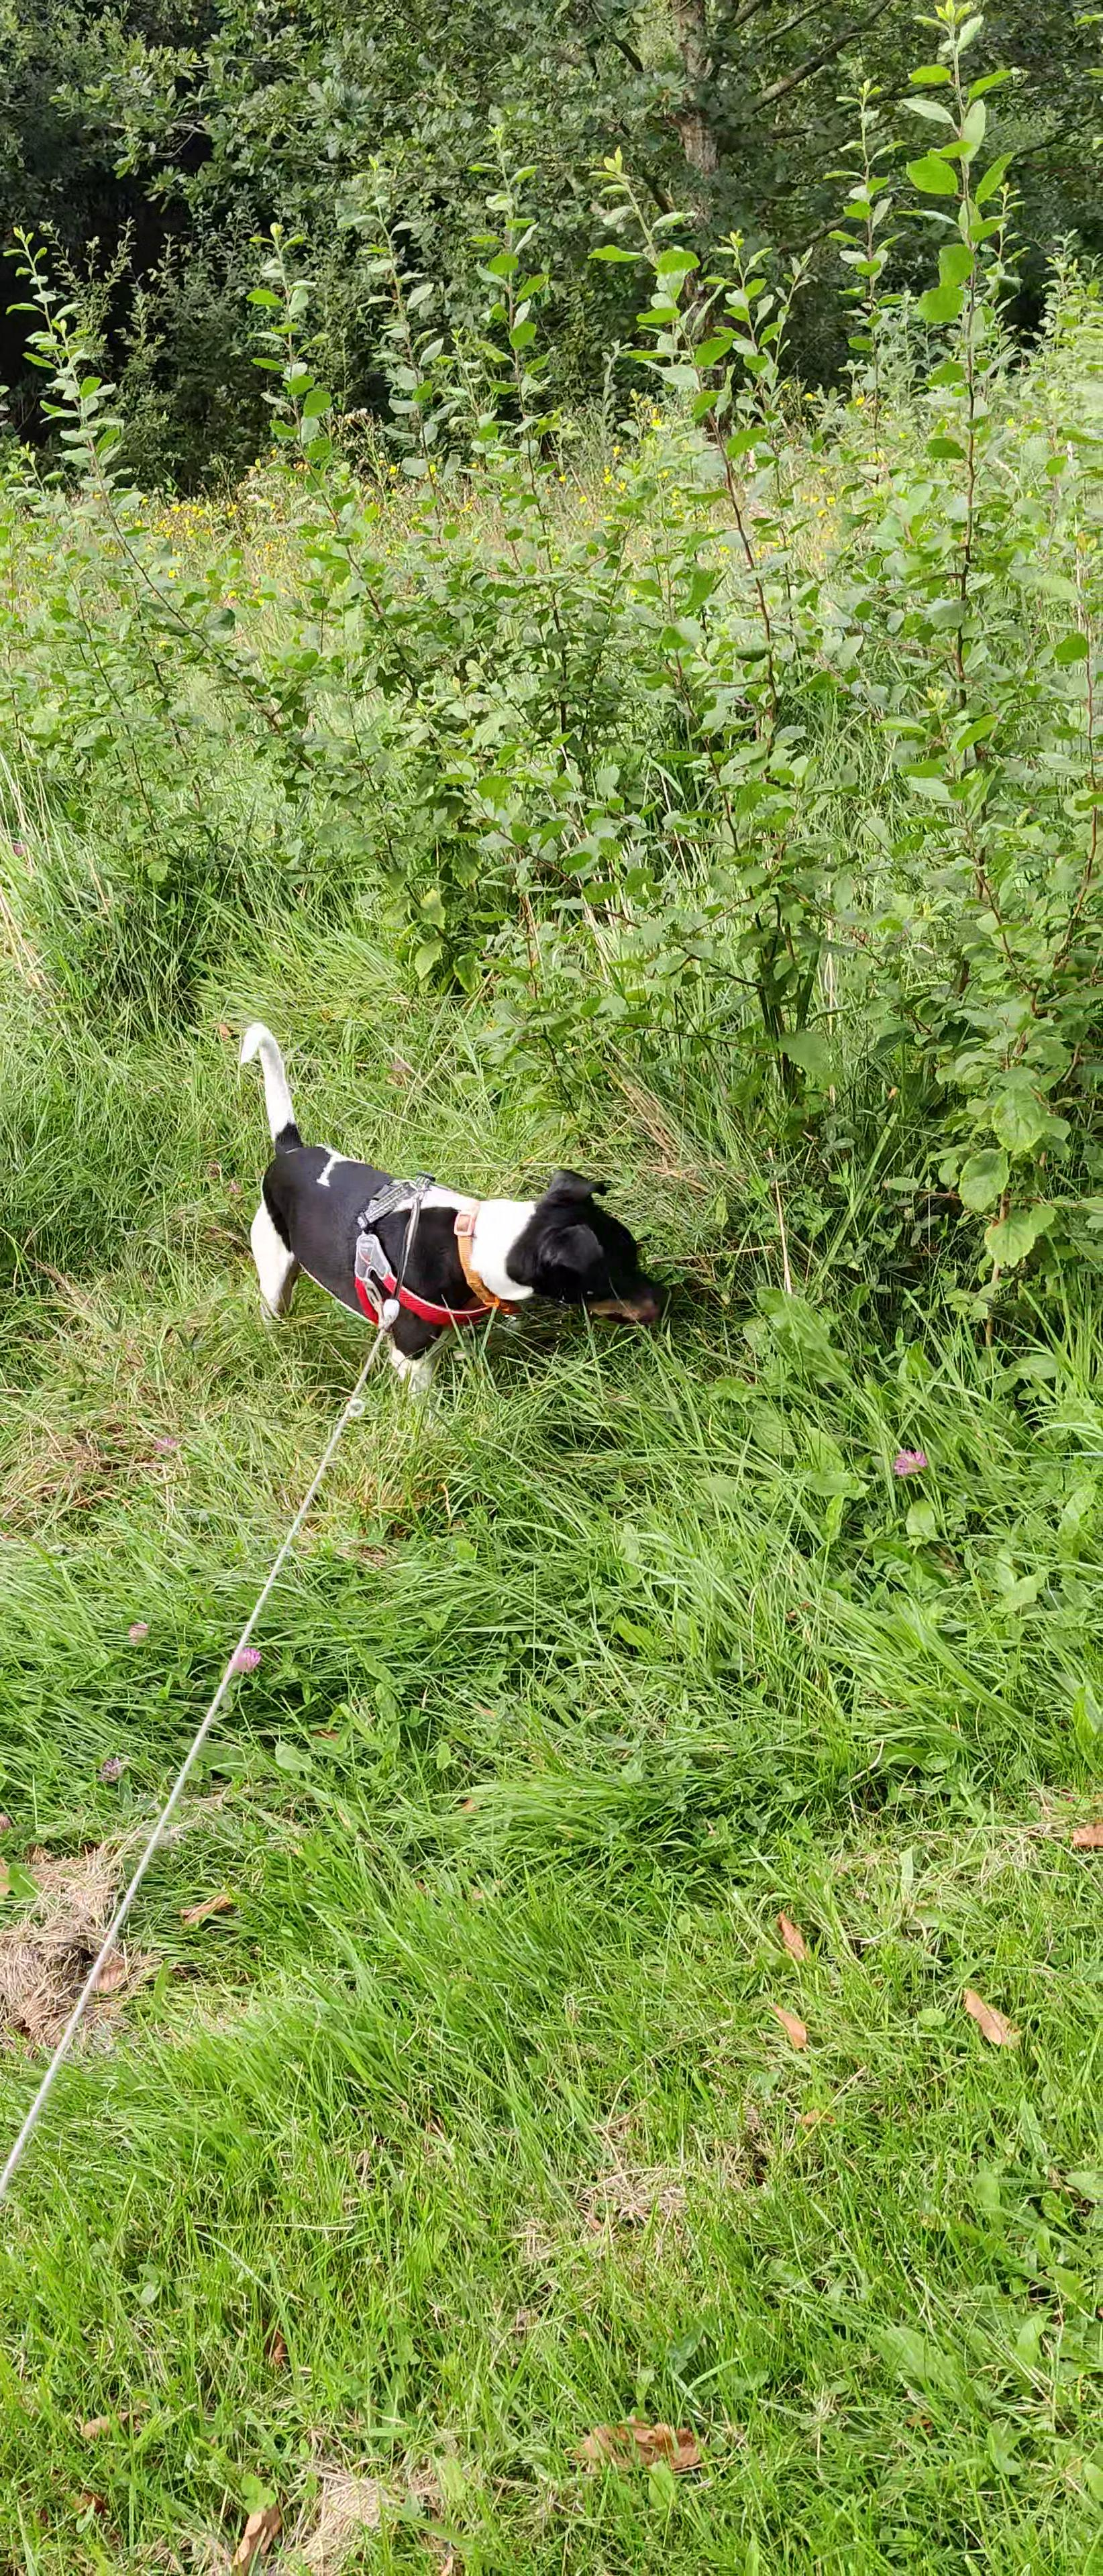Dog: (235, 1017, 687, 1401)
